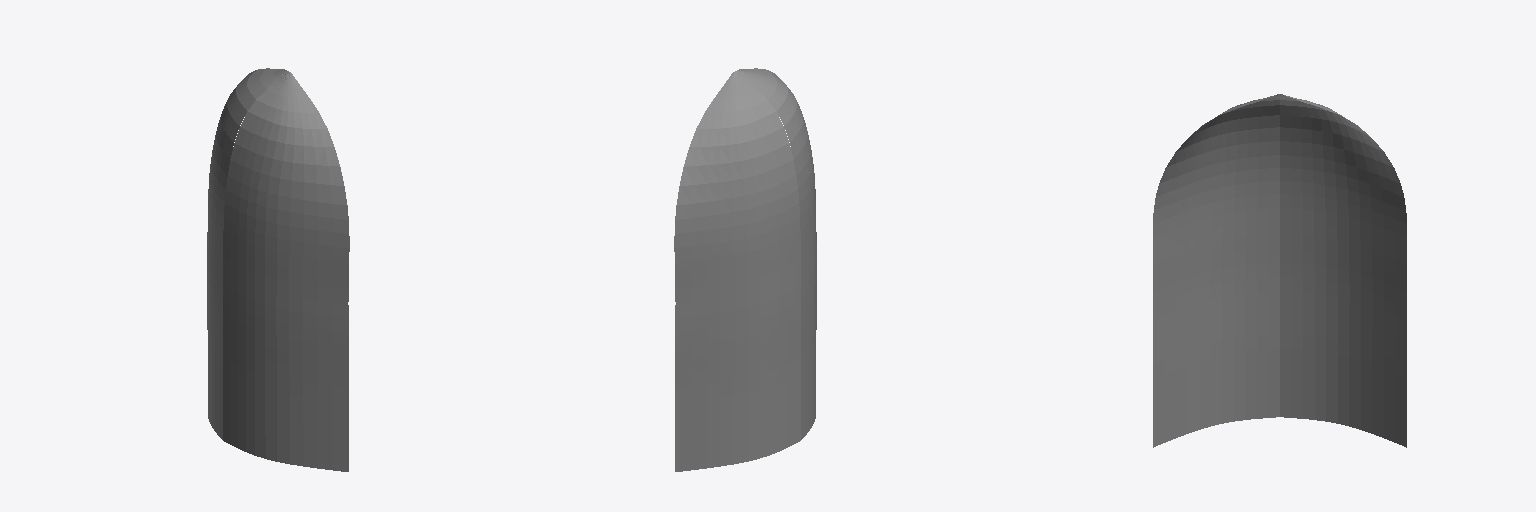
The model's file is Symmetry_Inner_Sanctum_1_0_0.obj.
3 views of the same model, side by side, from view 1: azimuth 30°, elevation 25°; view 2: azimuth 150°, elevation 25°; view 3: azimuth 270°, elevation 25° (orthographic).
Parts seen in each view (by area): view 1: Symmetry_Inner_Sanctum_1; view 2: Symmetry_Inner_Sanctum_1; view 3: Symmetry_Inner_Sanctum_1.
Part boxes in pixels (x1,y1,x2,y2): Symmetry_Inner_Sanctum_1: (207,68,349,471); Symmetry_Inner_Sanctum_1: (674,68,816,471); Symmetry_Inner_Sanctum_1: (1153,94,1406,447).
Size of the model in its own units: 8.52 by 43.18 by 28.1.